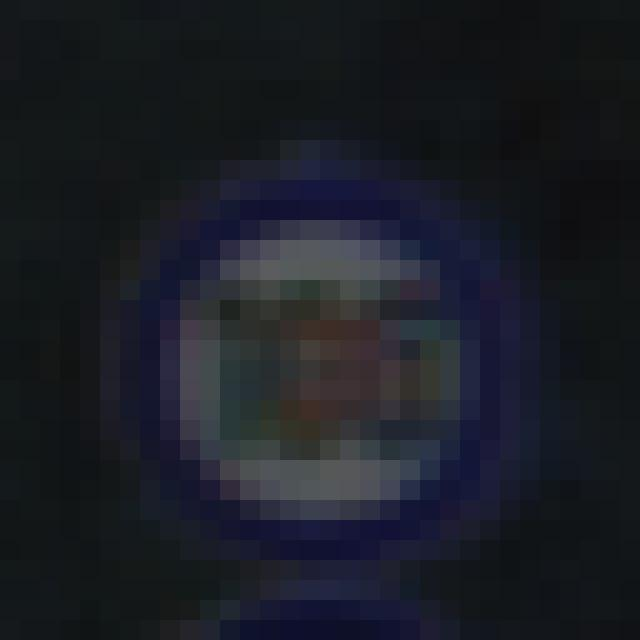SPEED LIMIT 100: (117, 141, 505, 555)
